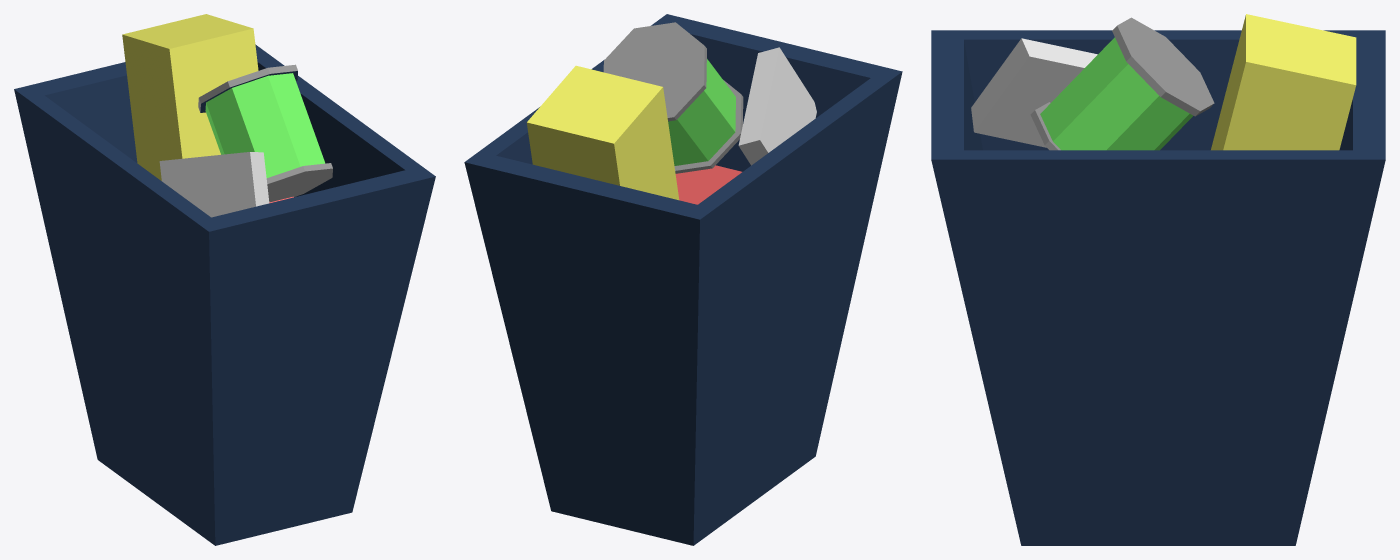
File: Bin 2.fbx
3 renders of one model, left to right at view 1: azimuth 30°, elevation 25°; view 2: azimuth 150°, elevation 25°; view 3: azimuth 270°, elevation 25°, orthographic. The views are drawn at different scales.
Visible parts, largest first — view 1: Bin.001; view 2: Bin.001; view 3: Bin.001.
Part boxes in pixels (x1=…): Bin.001: x1=14, y1=14, x2=435, y2=545; Bin.001: x1=464, y1=14, x2=902, y2=545; Bin.001: x1=931, y1=14, x2=1385, y2=545.
Bounding box in the file's own units: 35.56 × 63.67 × 52.91.
